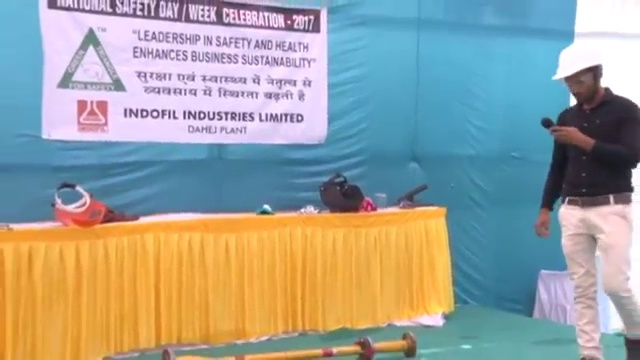helmet: (550, 42, 603, 79)
helmet_on: (550, 41, 610, 111)
person: (536, 39, 640, 359)
